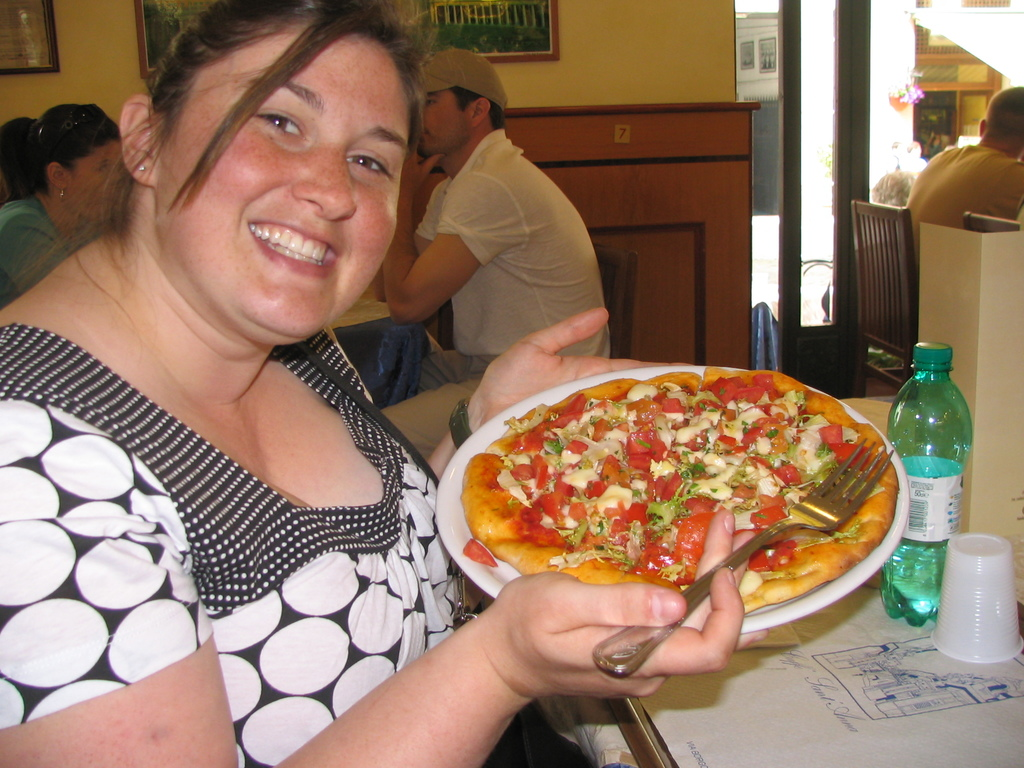Pizza: (447, 362, 903, 634)
